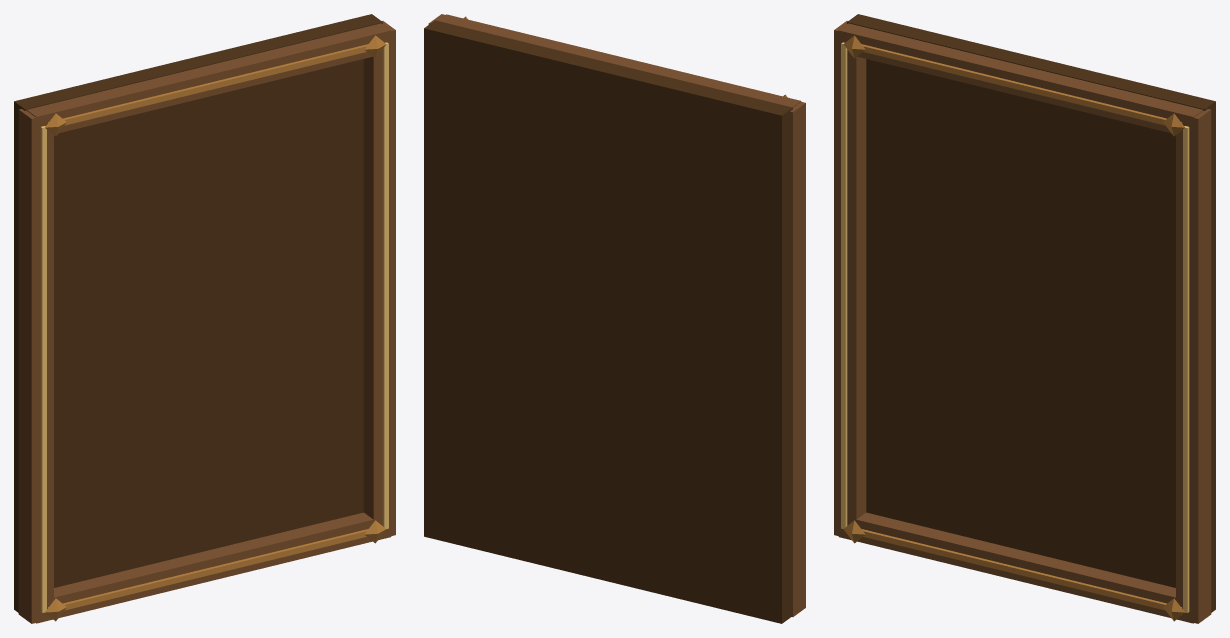
The model's file is mia-painting.glb.
3 views of the same model, side by side, from view 1: azimuth 30°, elevation 25°; view 2: azimuth 150°, elevation 25°; view 3: azimuth 330°, elevation 25° (orthographic).
Parts seen in each view (by area): view 1: Body_wood, Body_oak, Body_trim, Body_brass; view 2: Body_wood, Body_oak; view 3: Body_wood, Body_oak, Body_trim, Body_brass.
Part boxes in pixels (<box>): Body_wood: <box>14,14,382,612</box>; Body_oak: <box>18,21,395,623</box>; Body_trim: <box>40,42,388,612</box>; Body_brass: <box>45,35,386,621</box>; Body_wood: <box>424,20,792,623</box>; Body_oak: <box>428,14,805,616</box>; Body_wood: <box>847,14,1215,612</box>; Body_oak: <box>834,21,1211,623</box>; Body_trim: <box>841,42,1189,612</box>; Body_brass: <box>843,35,1184,621</box>.
Bounding box in the file's own units: 1.14 × 1.52 × 0.137.
